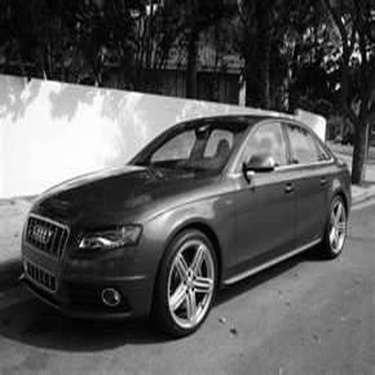car: (11, 99, 359, 341)
